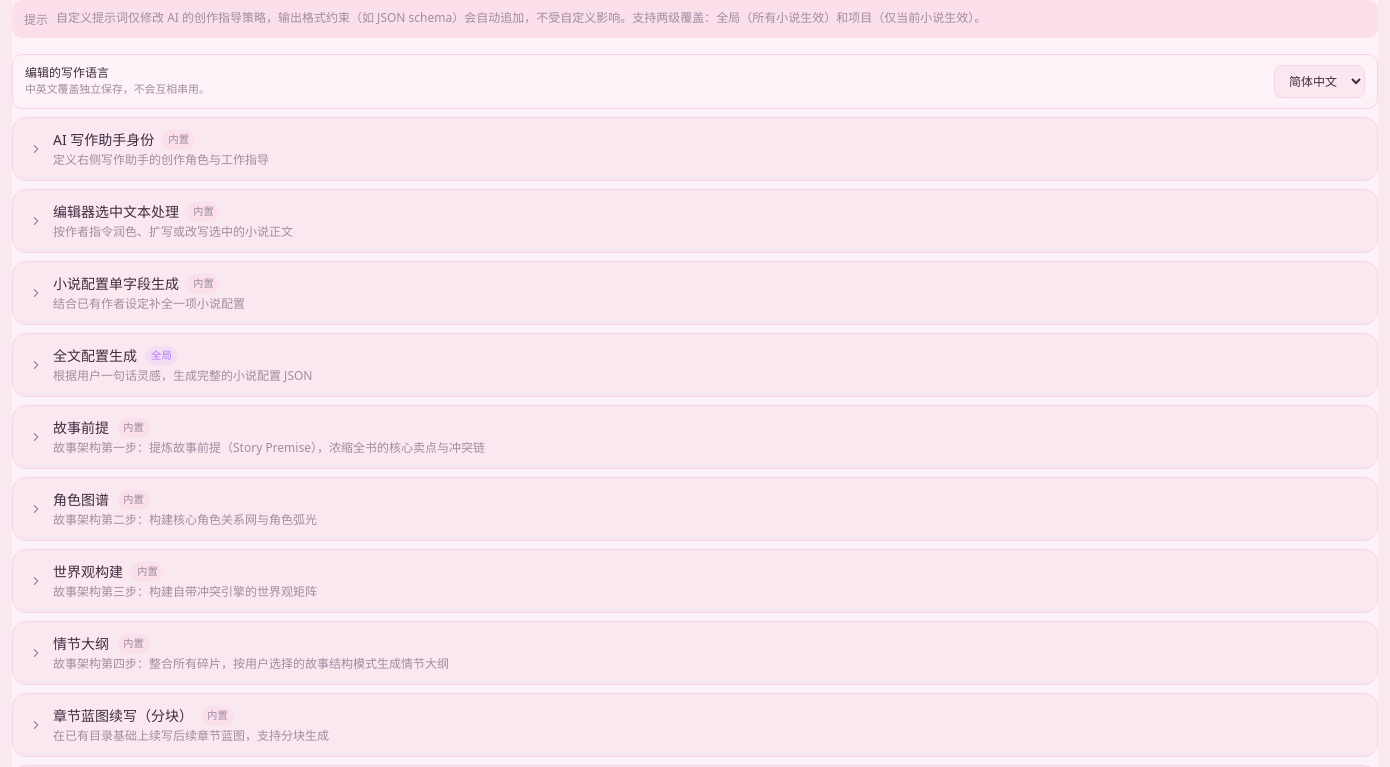
Test: global prompt persistence at the settings boundary › shows a globally saved template after a cold renderer start
This screenshot has width=1390, height=767.
Click the button "全文配置生成 全局 根据用户一句话灵感，生成完整的小说配置 JSON". click: (95, 356)
box: [13,334,1377,396]
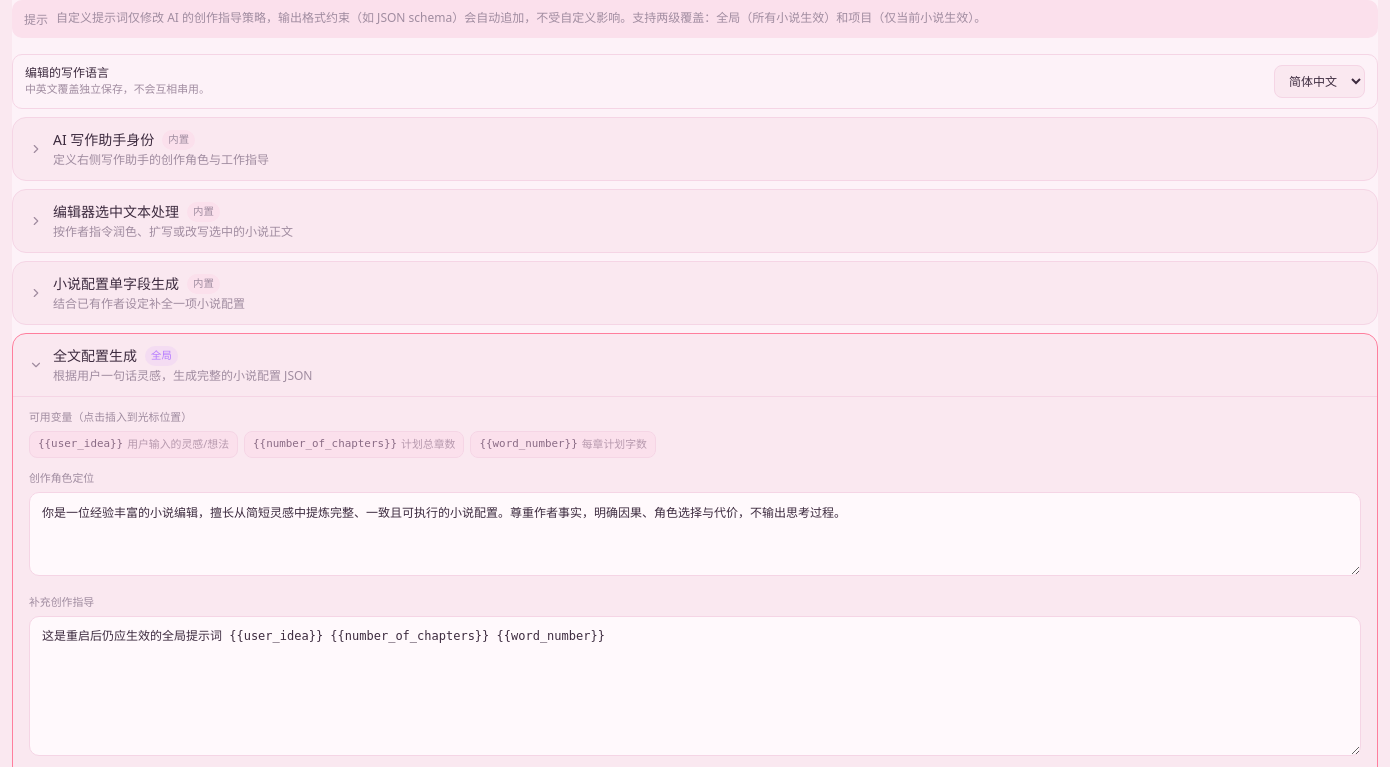
expect the text box named "补充创作指导" holds "这是重启后仍应生效的全局提示词 {{user_idea}} {{number_of_chapters}} {{word_number}}": met, box [29,616,1361,756]
